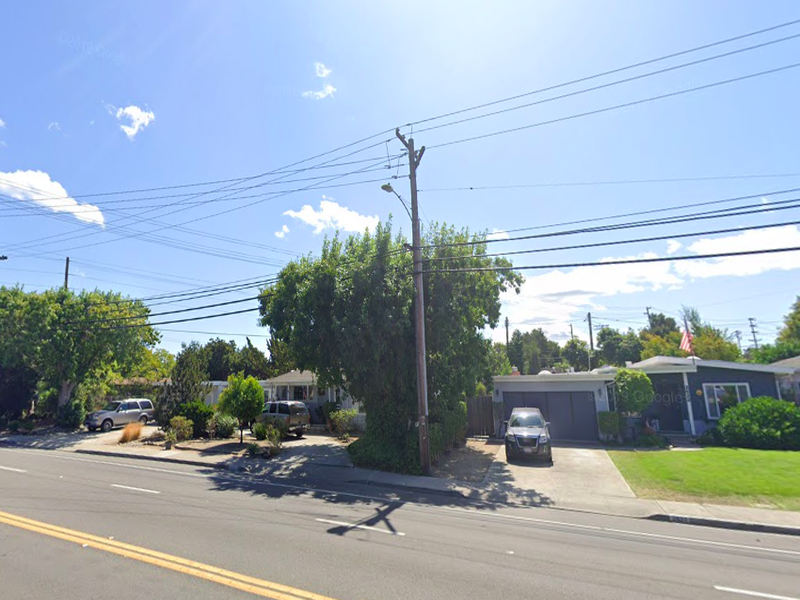tree: (256, 211, 527, 472)
utility_pole: (388, 119, 433, 184)
